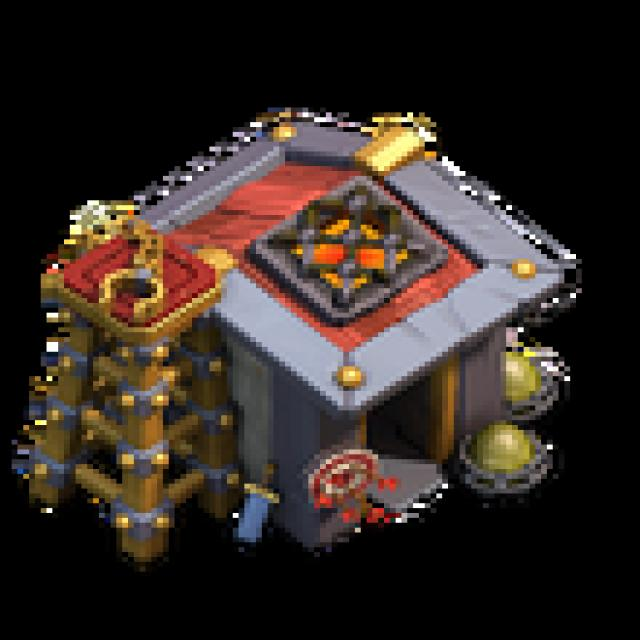barracks: (7, 62, 632, 573)
